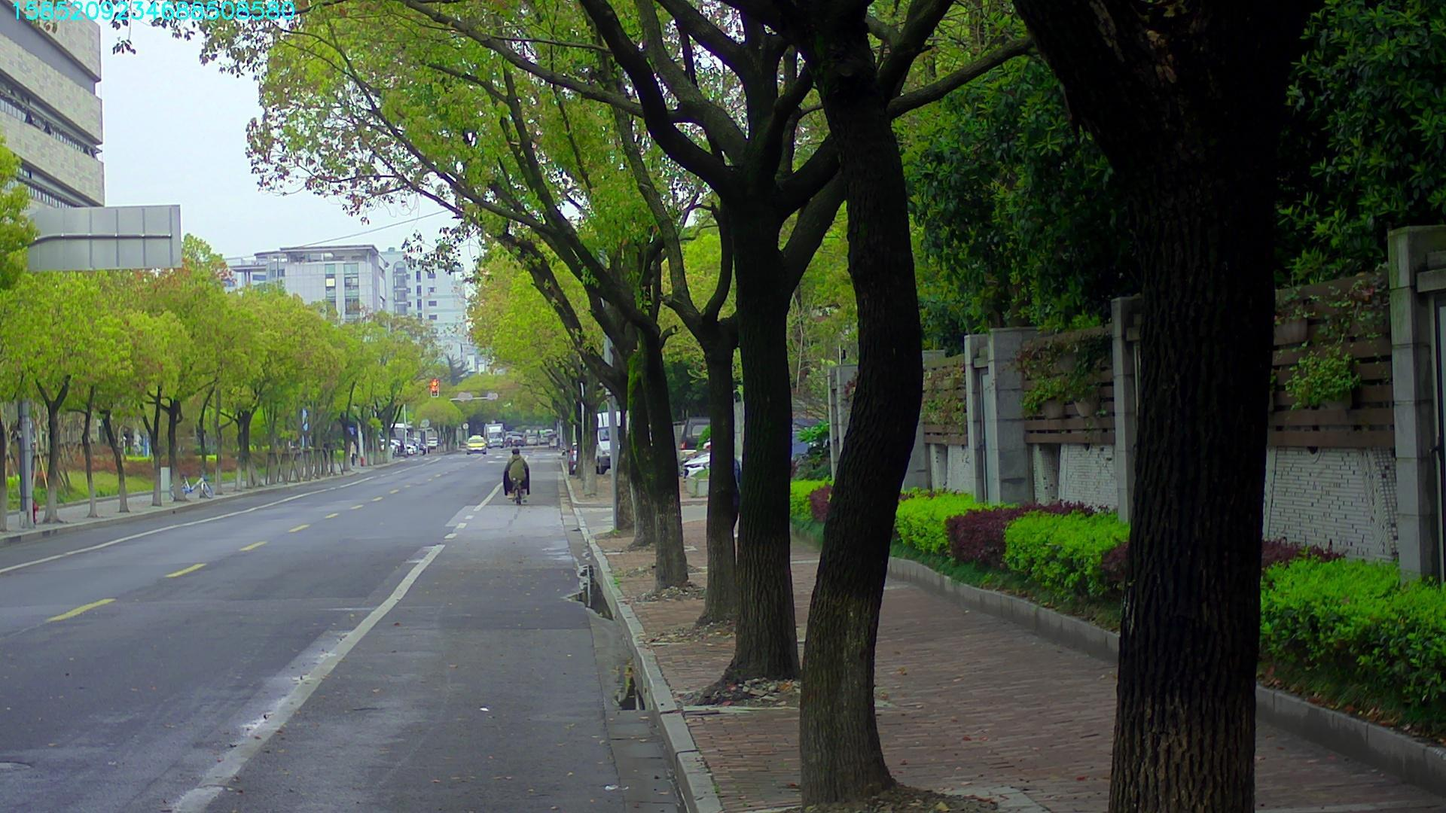red: (430, 379, 438, 397)
